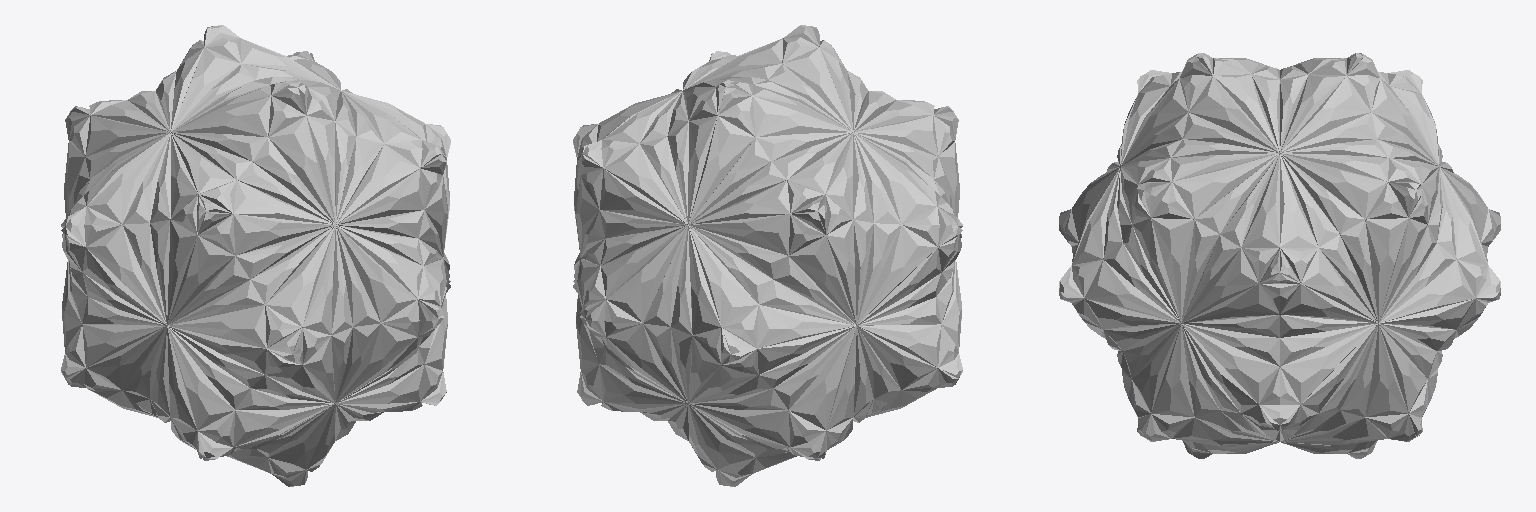
The model's file is floating01.obj.
3 renders of one model, left to right at view 1: azimuth 30°, elevation 25°; view 2: azimuth 150°, elevation 25°; view 3: azimuth 270°, elevation 25°, orthographic.
Parts seen in each view (by area): view 1: temp1:_Instancer_Objects temp1:pCone1 polySurface34 _Shapes; view 2: temp1:_Instancer_Objects temp1:pCone1 polySurface34 _Shapes; view 3: temp1:_Instancer_Objects temp1:pCone1 polySurface34 _Shapes.
Boxes of the visible parts, x1=… form: temp1:_Instancer_Objects temp1:pCone1 polySurface34 _Shapes: x1=61, y1=25, x2=450, y2=486; temp1:_Instancer_Objects temp1:pCone1 polySurface34 _Shapes: x1=573, y1=25, x2=962, y2=486; temp1:_Instancer_Objects temp1:pCone1 polySurface34 _Shapes: x1=1059, y1=53, x2=1500, y2=458.
Bounding box in the file's own units: 36.33 × 36.33 × 36.33.